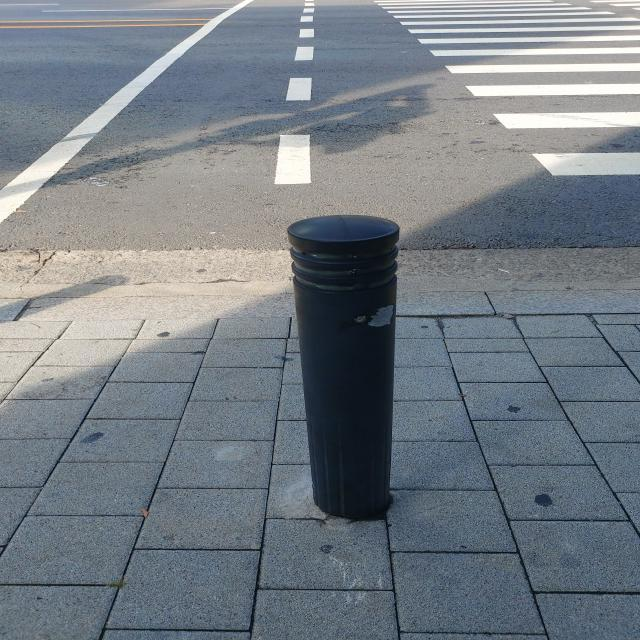pole: (286, 215, 399, 519)
